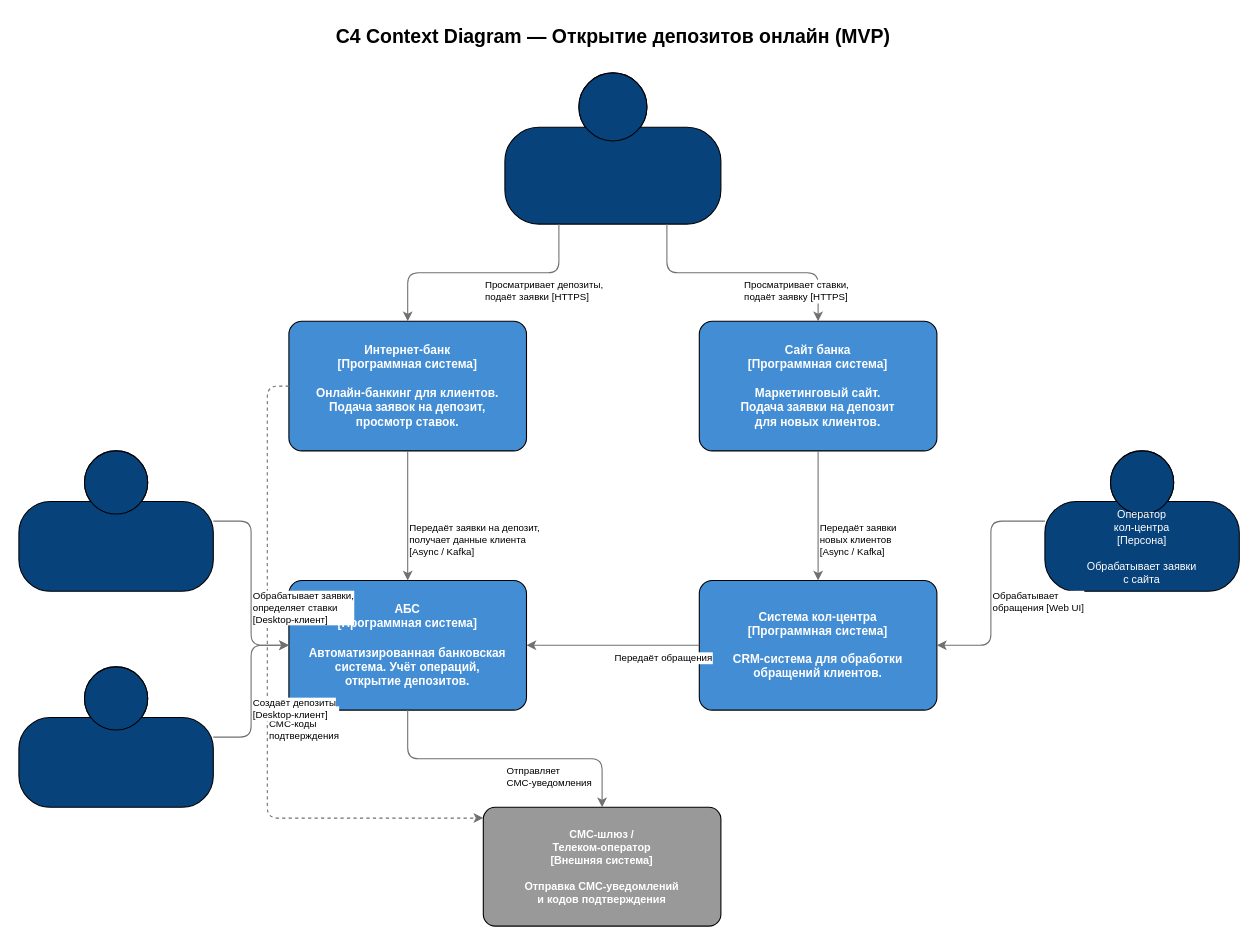
The diagram is 1258 pixels wide and 945 high, and some of its shapes have lost their labels. The shapes that lost their labels are listed below. From the top down, each one's centre as x and y in pixels, then its label:
(x=612, y=148): Клиент банка [Персона] Использует интернет-банк и сайт для работы с депозитами
(x=115, y=520): Менеджер БО депозитов [Персона] Обрабатывает заявки на депозиты в АБС
(x=115, y=736): Менеджер фронт-офиса [Персона] Работает с клиентами в отделении
